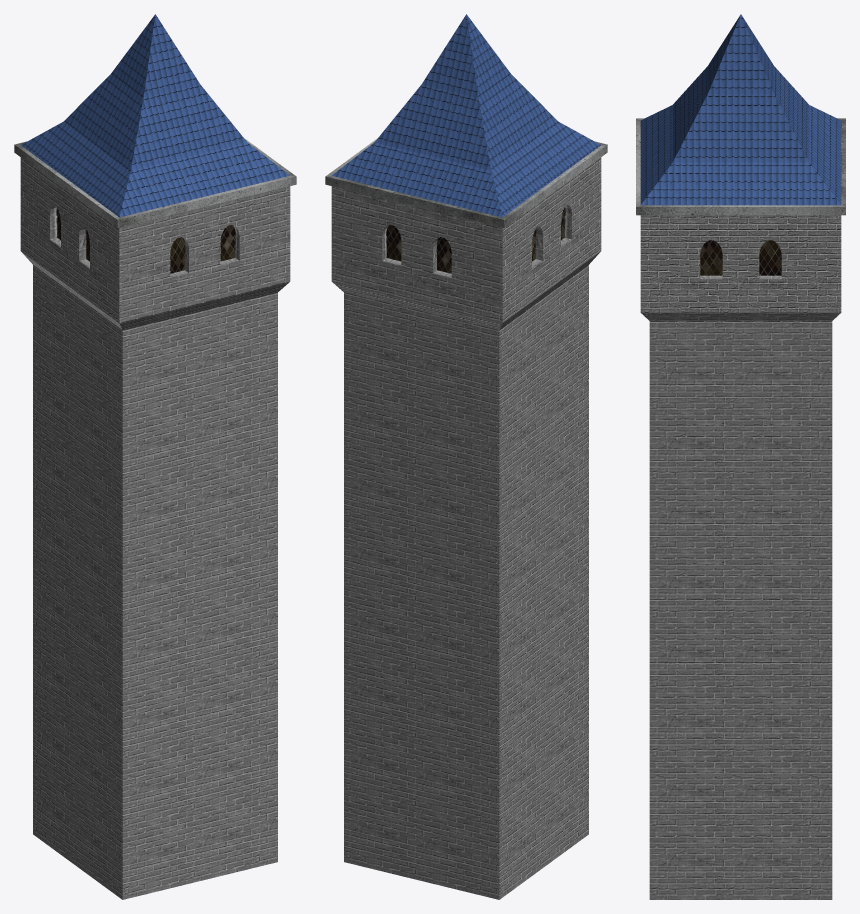
File: RoofWindows.001.fbx
3 views of the same model, side by side, from view 1: azimuth 30°, elevation 25°; view 2: azimuth 150°, elevation 25°; view 3: azimuth 270°, elevation 25° (orthographic).
Parts seen in each view (by area): view 1: RoofWindows.001; view 2: RoofWindows.001; view 3: RoofWindows.001.
Boxes of the visible parts, x1,y1,x2,y2 form: RoofWindows.001: (14,14,296,899); RoofWindows.001: (325,14,607,899); RoofWindows.001: (636,14,845,899).
Bounding box in the file's own units: 759 × 3383 × 759.
